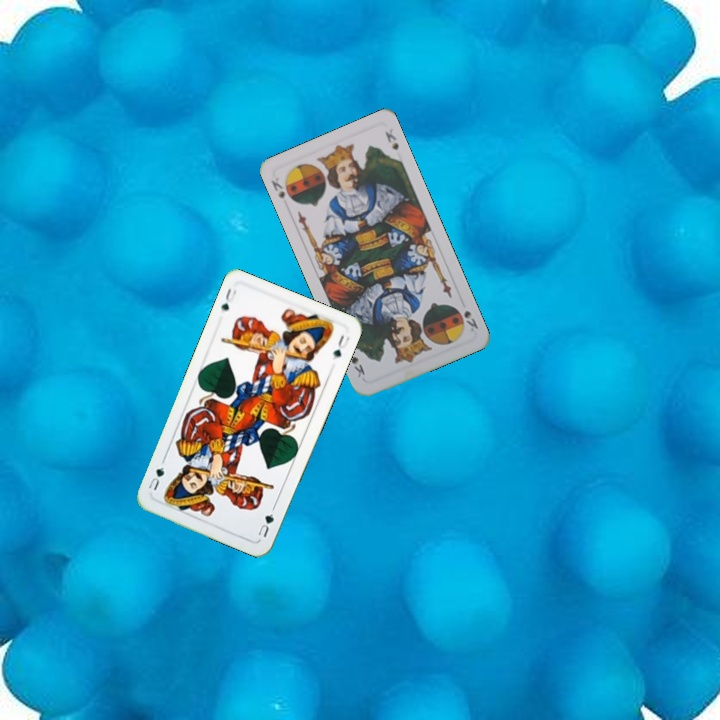GU: (254, 503, 278, 540), (217, 284, 239, 313)
SK: (267, 171, 288, 202), (460, 306, 481, 334)
